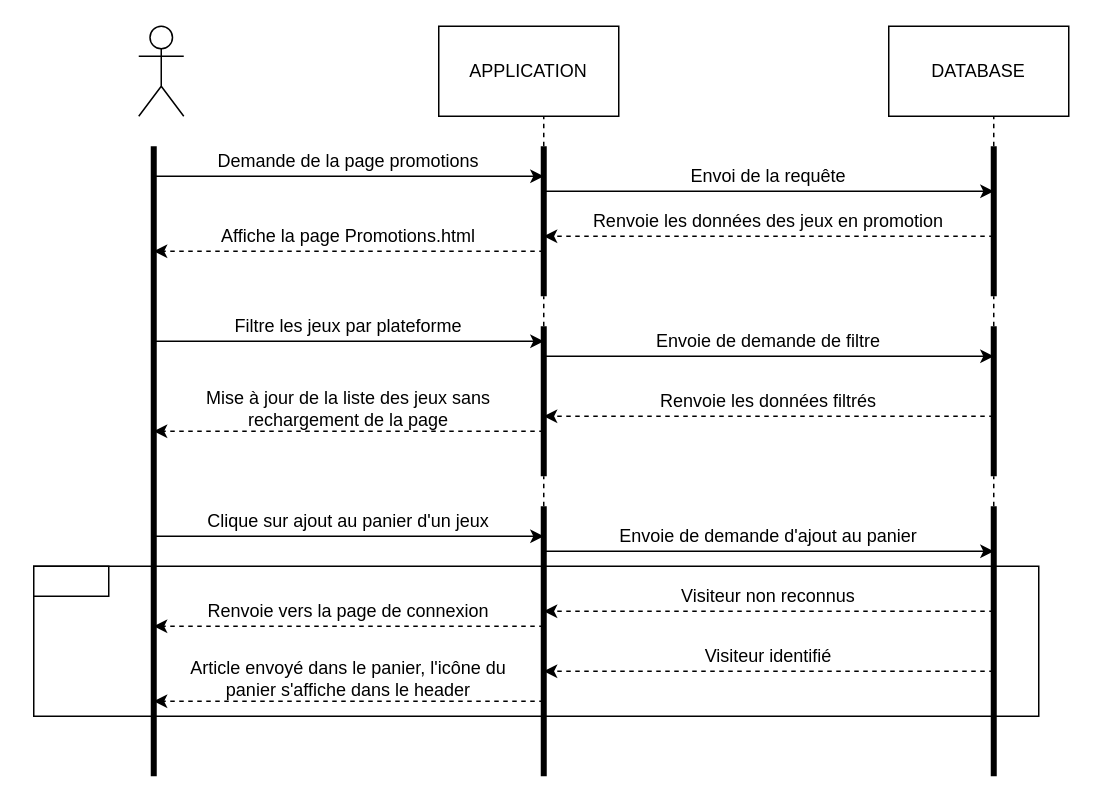
Image size: 1095x807. Some labels were removed from this diagram. The shapes that lost their labels are listed below. From the top down, each one's box as (x1, y1, x2, y2) in pixels, then its label:
(137, 25, 184, 116): VISITOR
(32, 565, 109, 596): Alt
